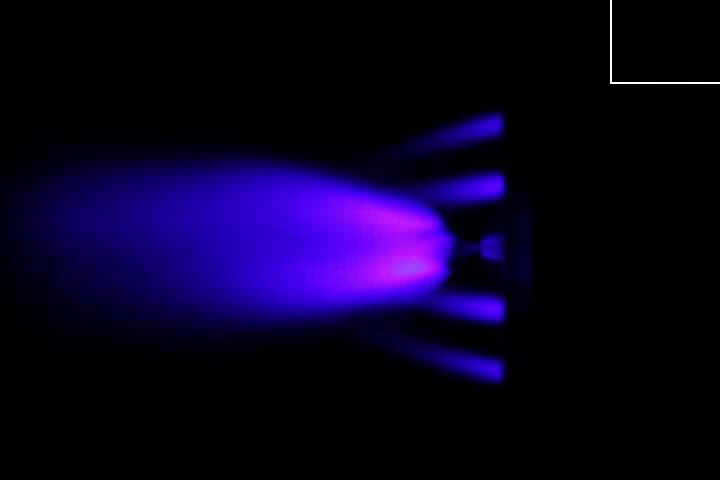burner cap: (478, 230, 509, 269)
pilot flame: (387, 330, 503, 386), (402, 112, 501, 152), (421, 169, 506, 206), (420, 292, 508, 326)
unstable: (280, 187, 478, 296)
